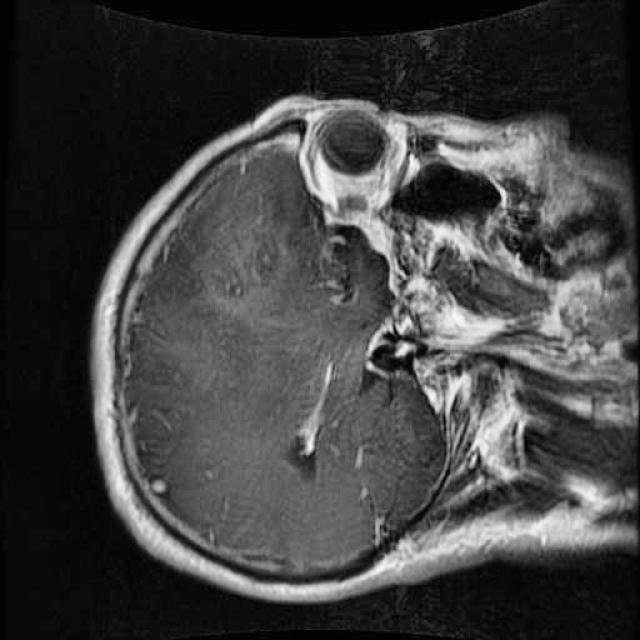Non-Tumor: (195, 162, 396, 342)
